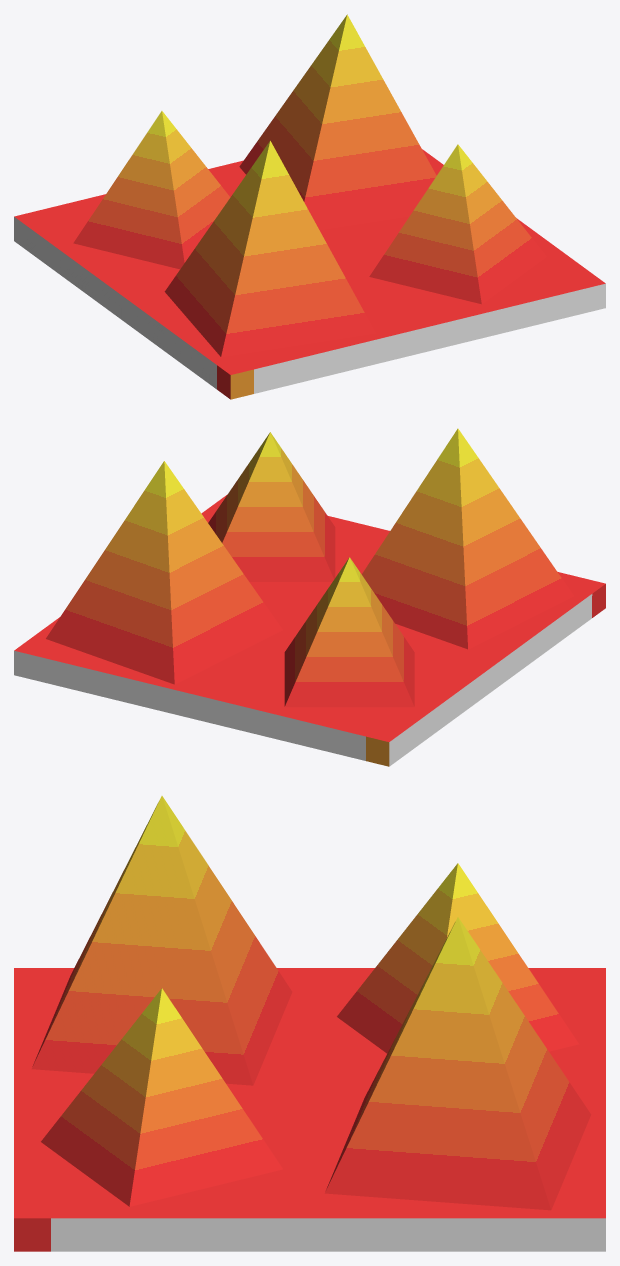
Rendered from GroundSpike.obj.
The picture shows the model from 3 angles, top to bottom: view 1: azimuth 30°, elevation 25°; view 2: azimuth 150°, elevation 25°; view 3: azimuth 270°, elevation 25°; orthographic projection. The views are drawn at different scales.
Parts seen in each view (by area): view 1: Base, Spike1.003, Spike1, Spike1.002, Spike1.001; view 2: Base, Spike1, Spike1.003, Spike1.001, Spike1.002; view 3: Base, Spike1, Spike1.003, Spike1.002, Spike1.001.
Boxes of the visible parts, x1,y1,x2,y2 form: Base: (14, 149, 605, 399); Spike1.003: (164, 140, 375, 357); Spike1: (239, 14, 436, 229); Spike1.002: (369, 144, 546, 304); Spike1.001: (73, 111, 230, 269); Base: (14, 494, 605, 766); Spike1: (46, 461, 282, 684); Spike1.003: (362, 428, 573, 649); Spike1.001: (284, 557, 414, 707); Spike1.002: (208, 432, 335, 581); Base: (14, 968, 605, 1251); Spike1: (324, 917, 591, 1210); Spike1.003: (31, 796, 292, 1085); Spike1.002: (41, 988, 282, 1206); Spike1.001: (337, 863, 578, 1053).
Size of the model in its own units: 1.6 by 0.808 by 1.6.
